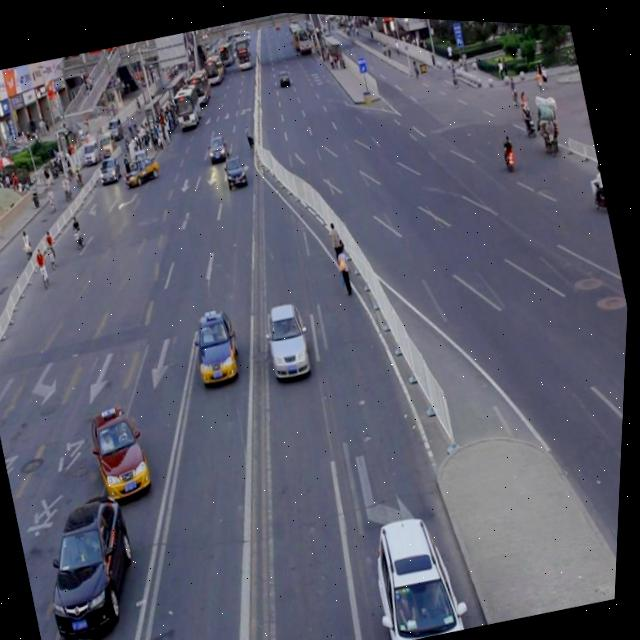car: (33, 483, 156, 640), (364, 500, 475, 640), (86, 396, 162, 504), (260, 293, 320, 381), (188, 302, 249, 386)
